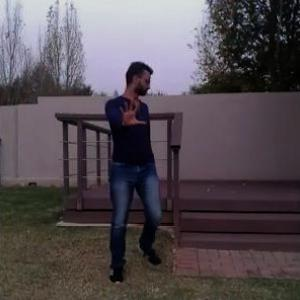follow_hand: (114, 94, 147, 130)
